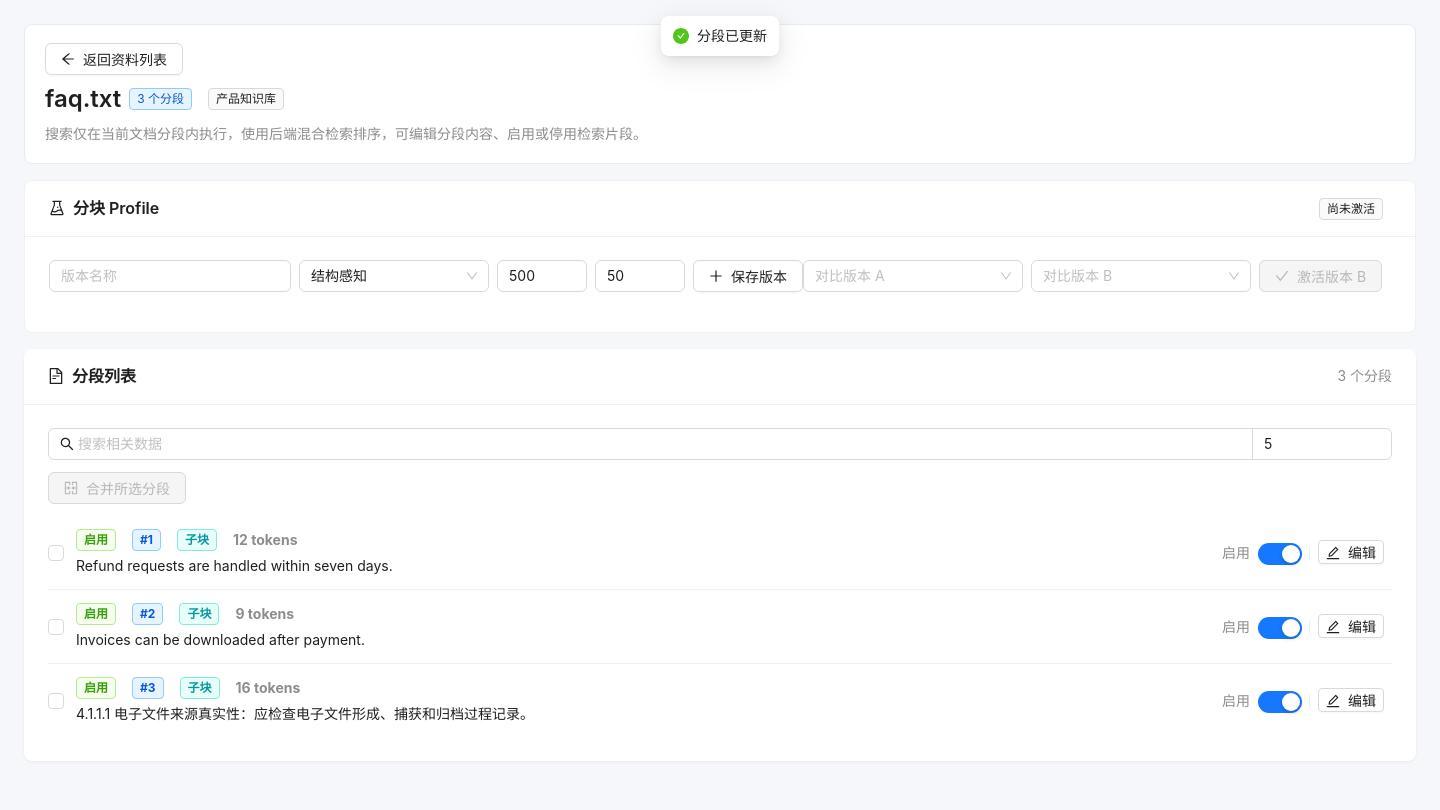
Test: knowledge document edit page › searches chunks through the current document search endpoint
Check: the text "Refund requests are handled within seven days." is shown, box [76,557,393,574]
Type "invoice" into the field with placeholder "搜索相关数据".
click(652, 444); type("invoice")  # box [78,433,1225,455]
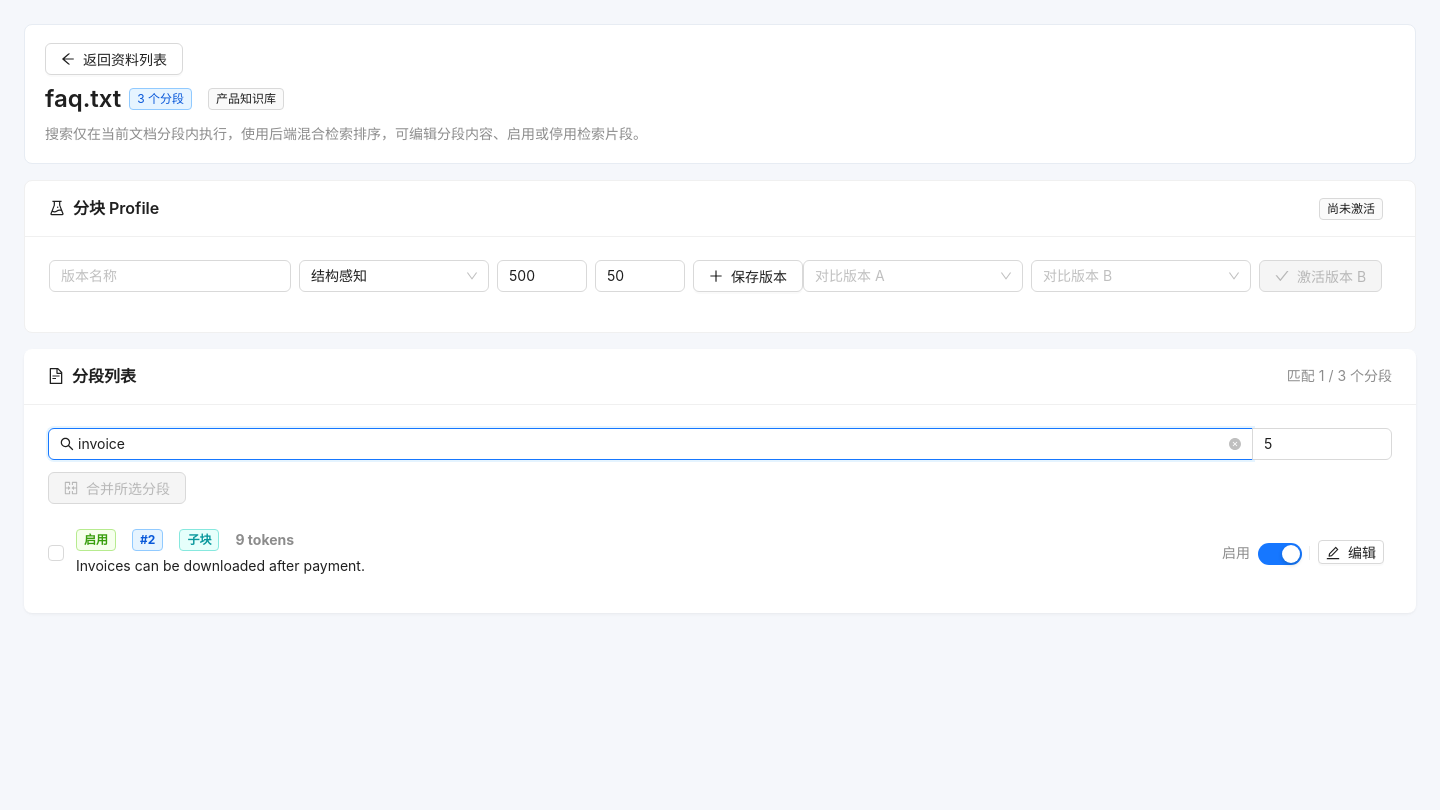
Check: the text "Invoices can be downloaded after payment." is shown, box [76,557,365,574]
Check: the text "Refund requests" is gone
Check: the text "匹配 1 / 3 个分段" is shown, box [1287,368,1392,384]
